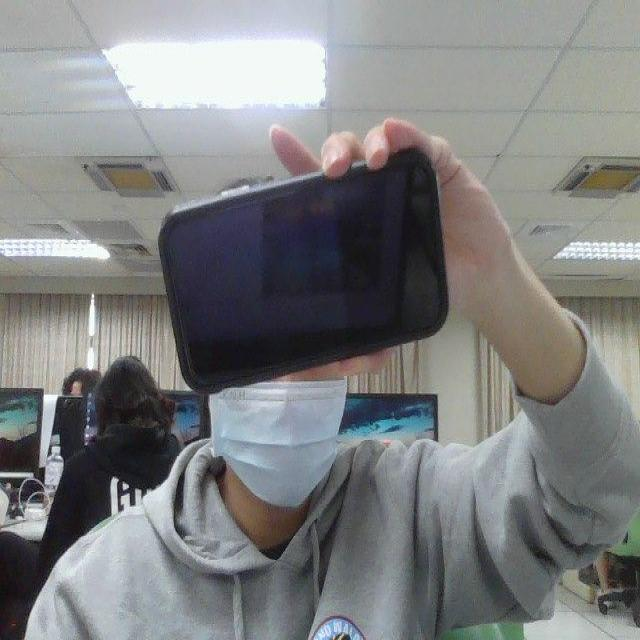ph: (140, 123, 504, 408)
